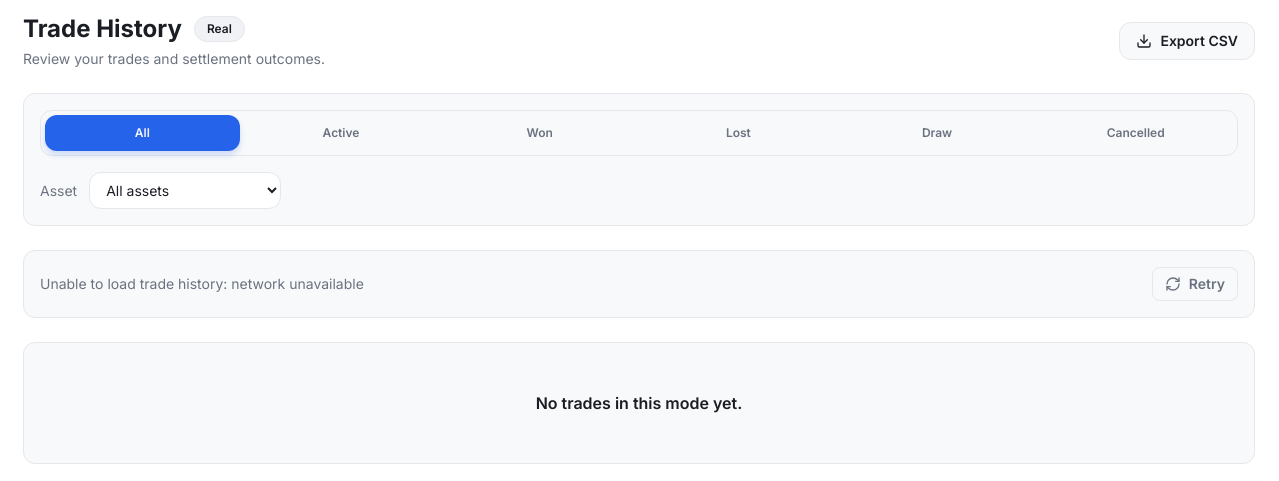
Test case: HistoryPage › shows an error and retries the failed fetch
Expected: the message "Unable to load trade history: network unavailable Retry" is shown, [23,250,1255,318]
Click the button "Retry" at (1195, 284), box [1152,267,1238,301]
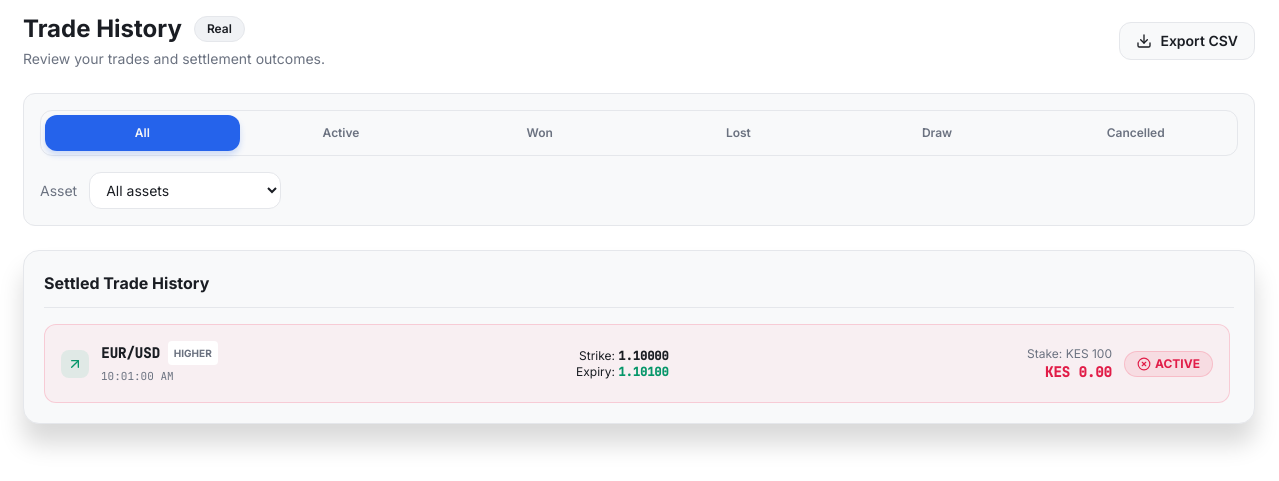
Result: the text "EUR/USD" is shown at [101,343,160,363]
